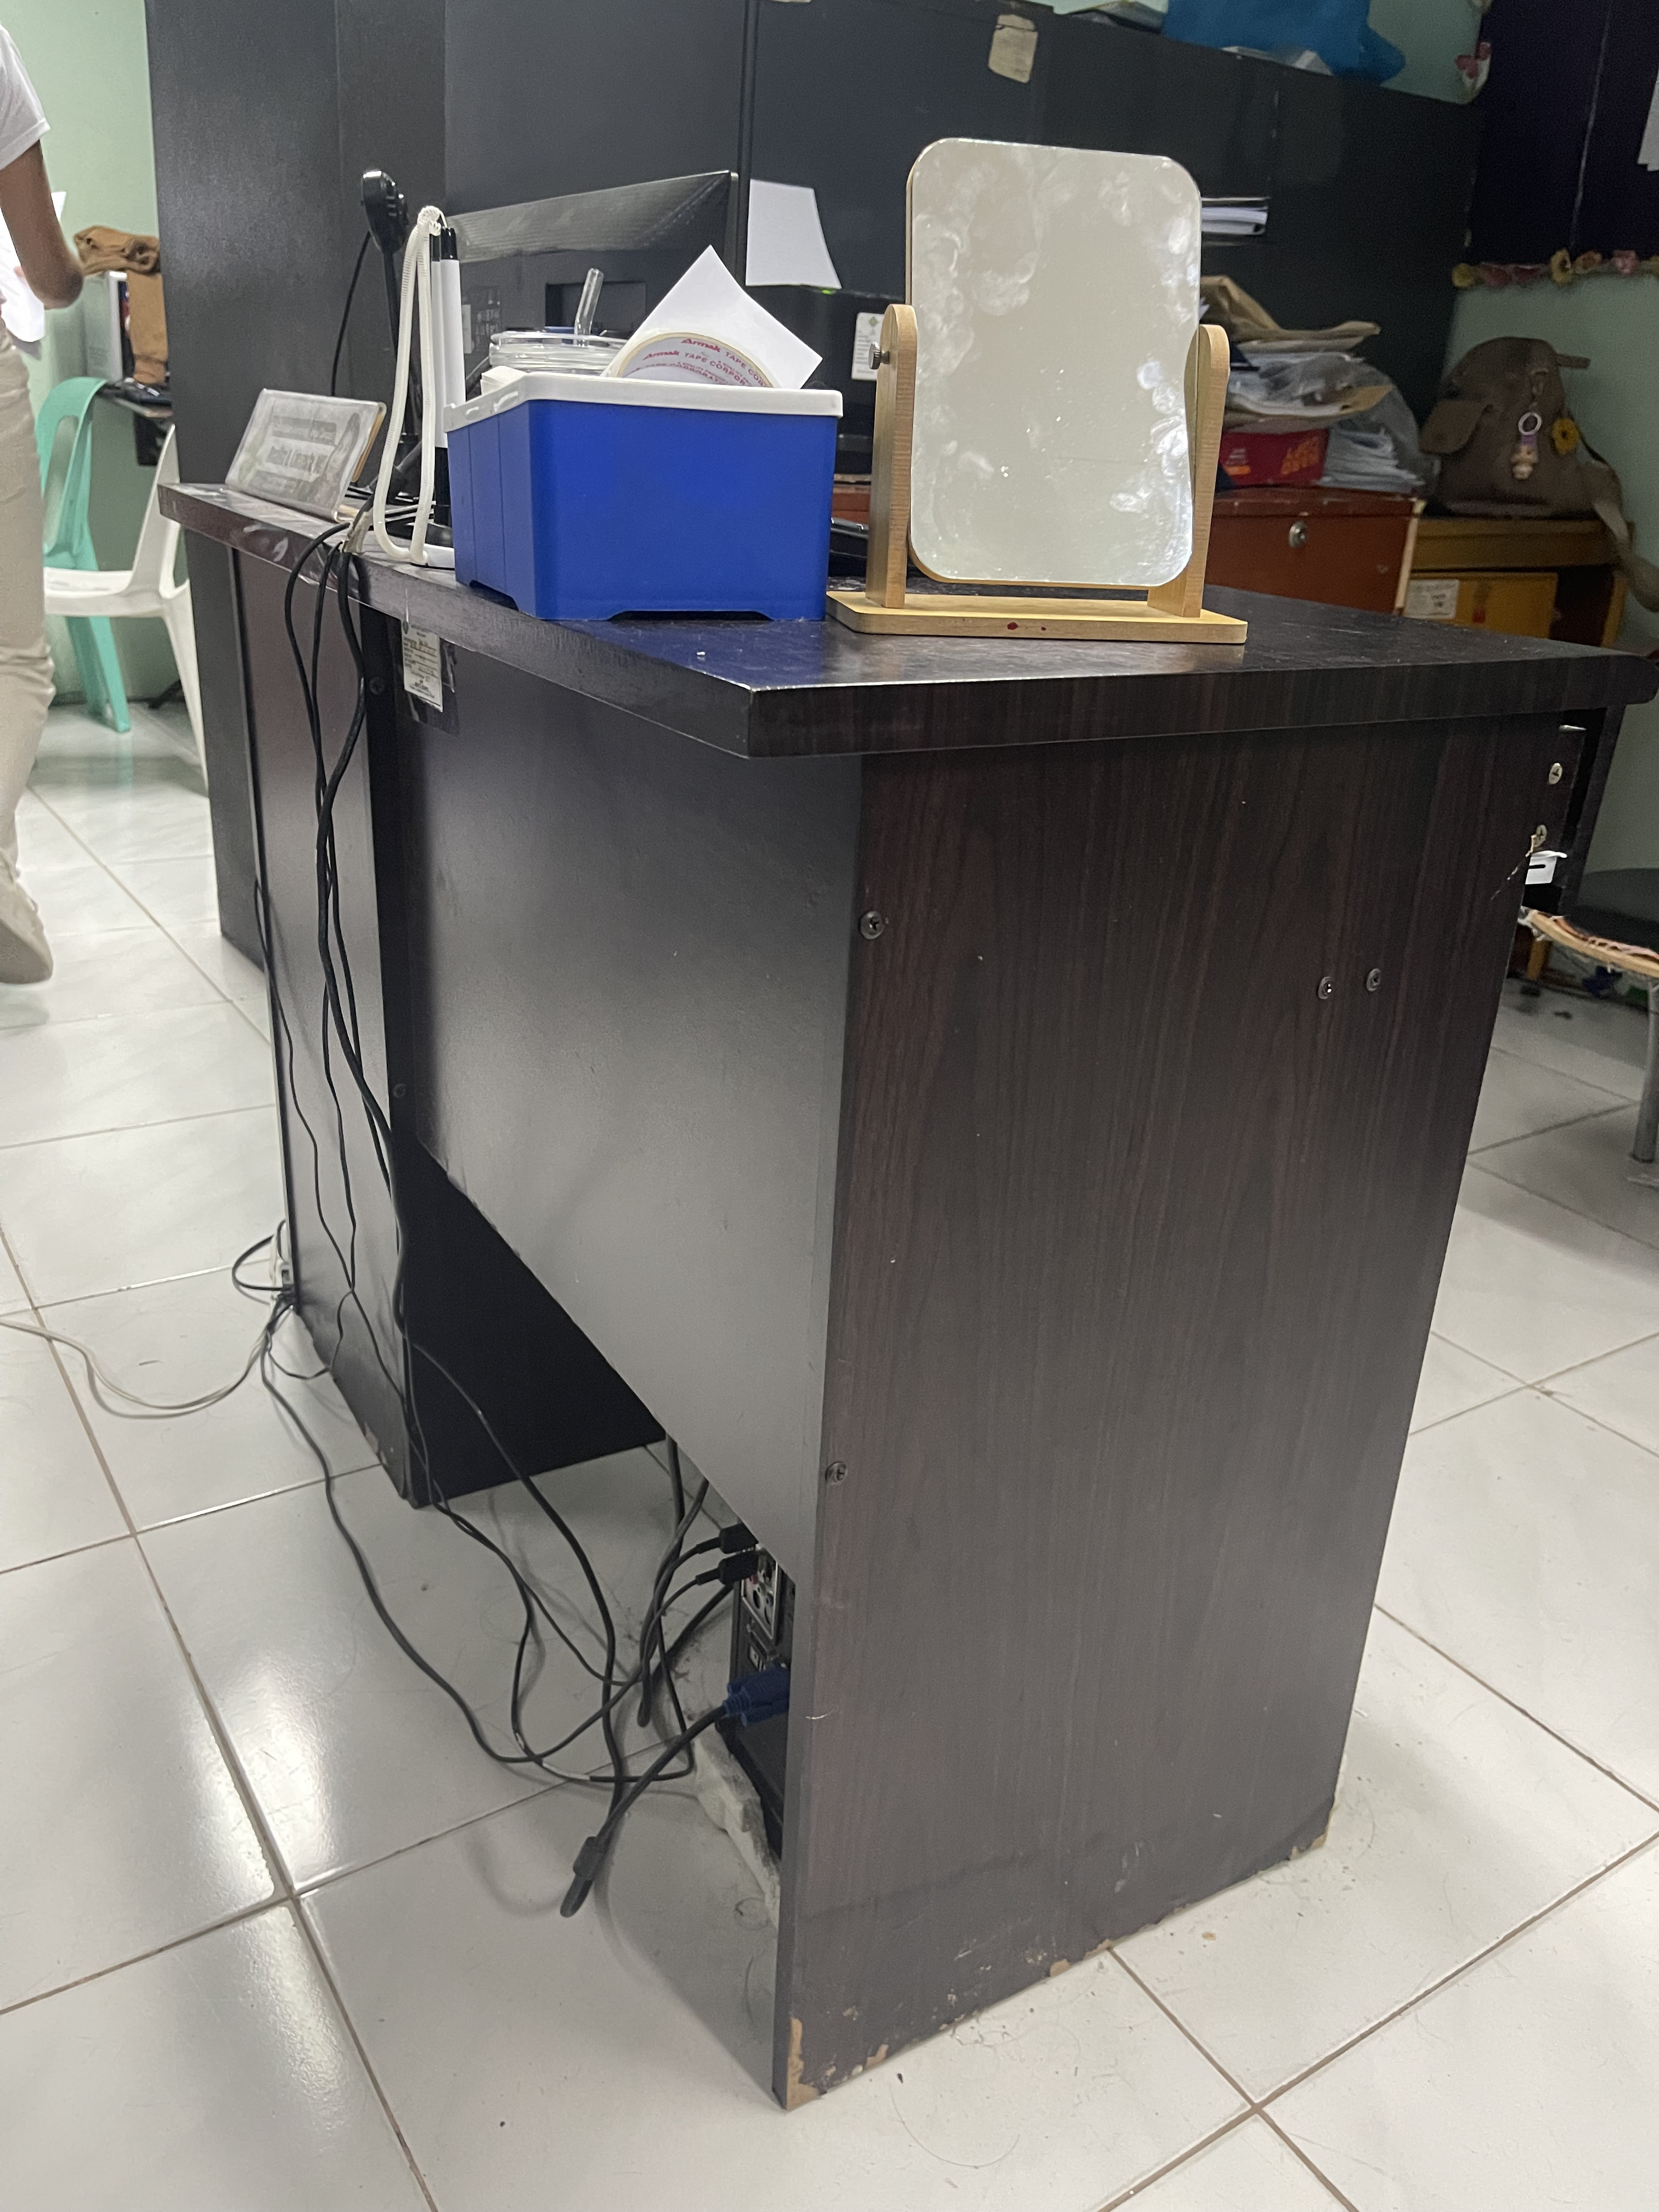table1: (146, 472, 1659, 2102)
